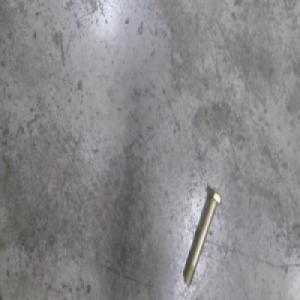Bolt: (182, 192, 222, 287)
